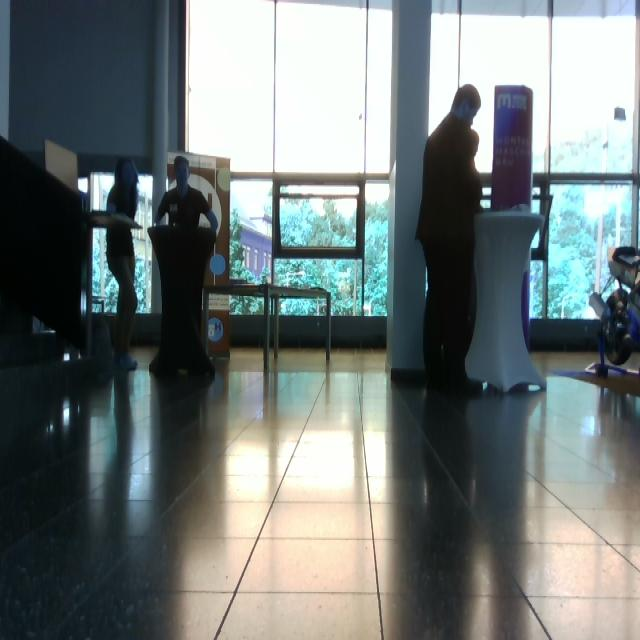light bulb: (210, 253, 226, 277)
person: (415, 84, 486, 396), (150, 156, 219, 378), (105, 157, 143, 372)
pillar: (387, 1, 432, 380)
table: (464, 207, 550, 399), (265, 282, 335, 372)
tiled floor: (2, 344, 639, 638)
